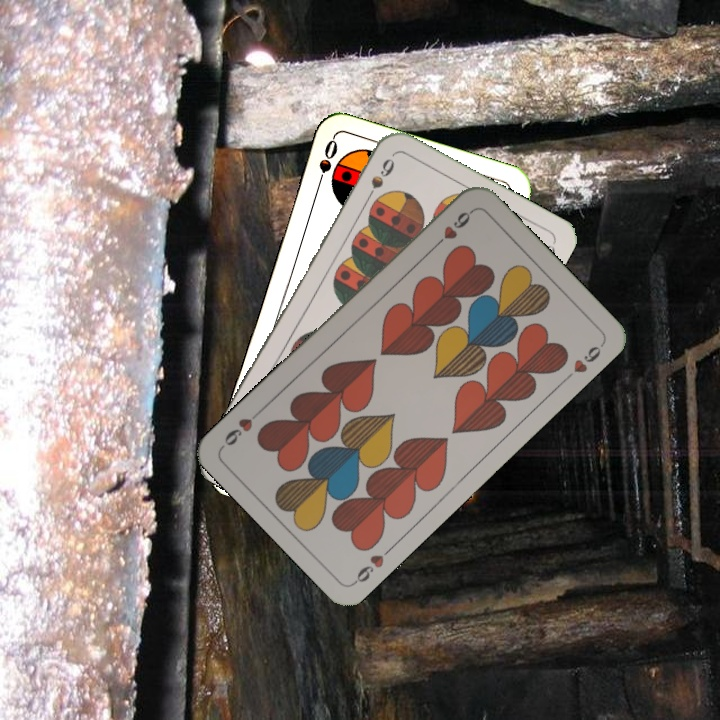H9: (349, 541, 396, 587), (429, 206, 476, 251)
S9: (360, 154, 398, 207)
SO: (312, 135, 340, 193)
